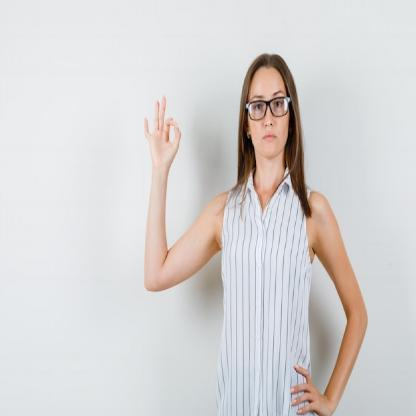ok: (139, 90, 183, 172)
